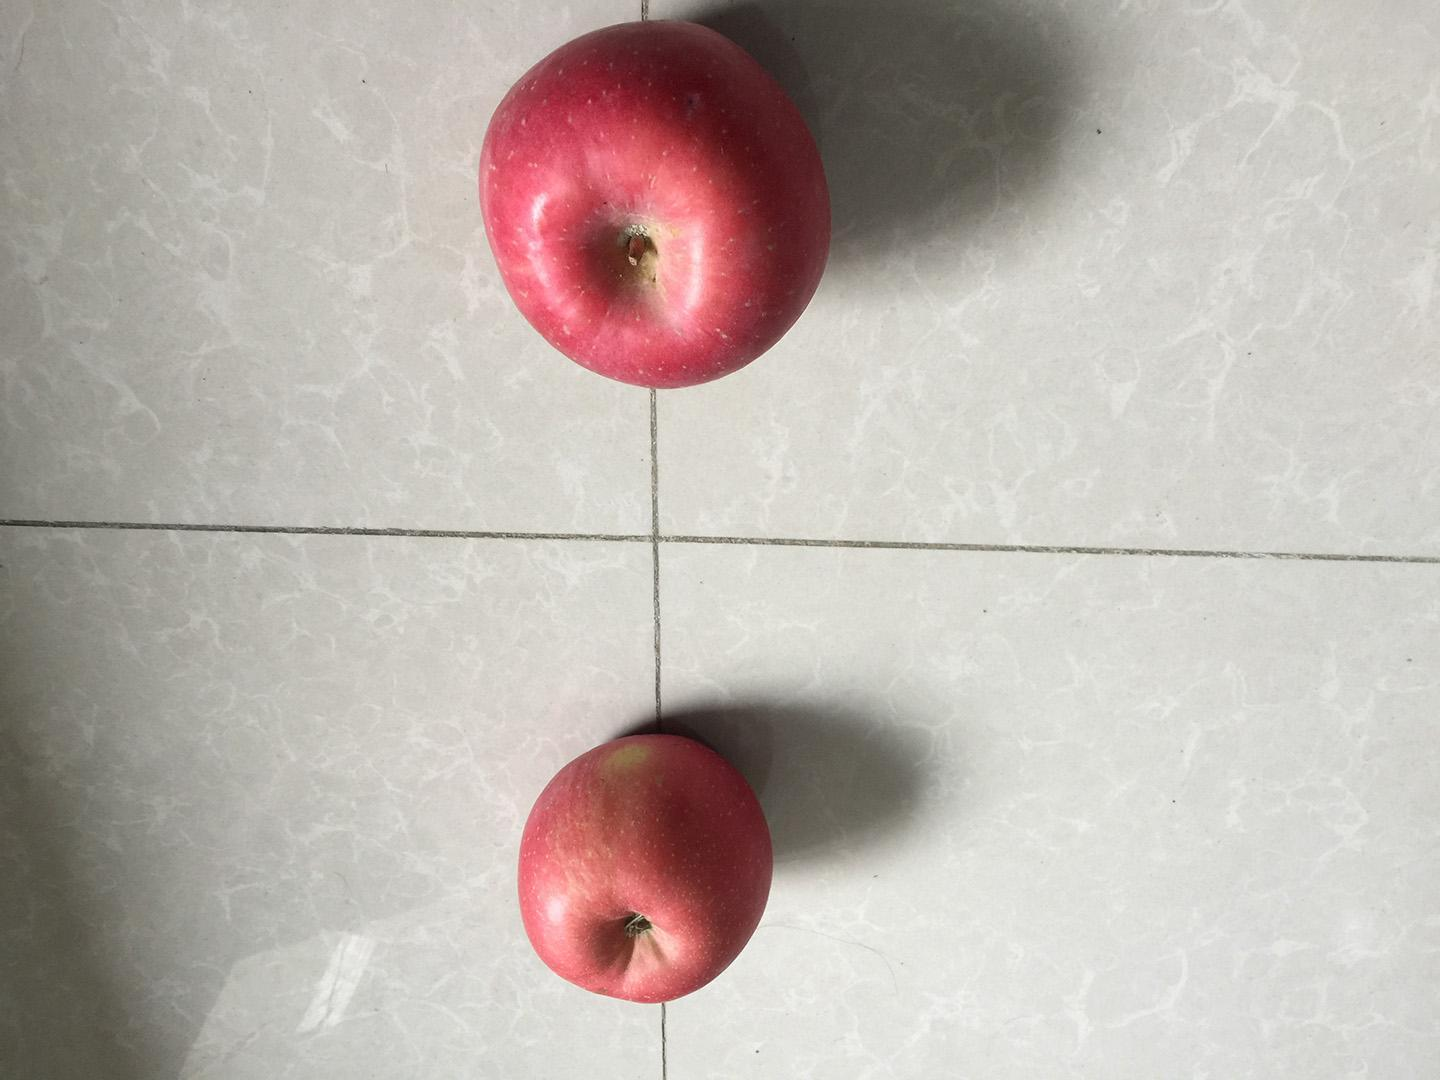apple: (473, 12, 835, 396), (513, 718, 782, 1009)
